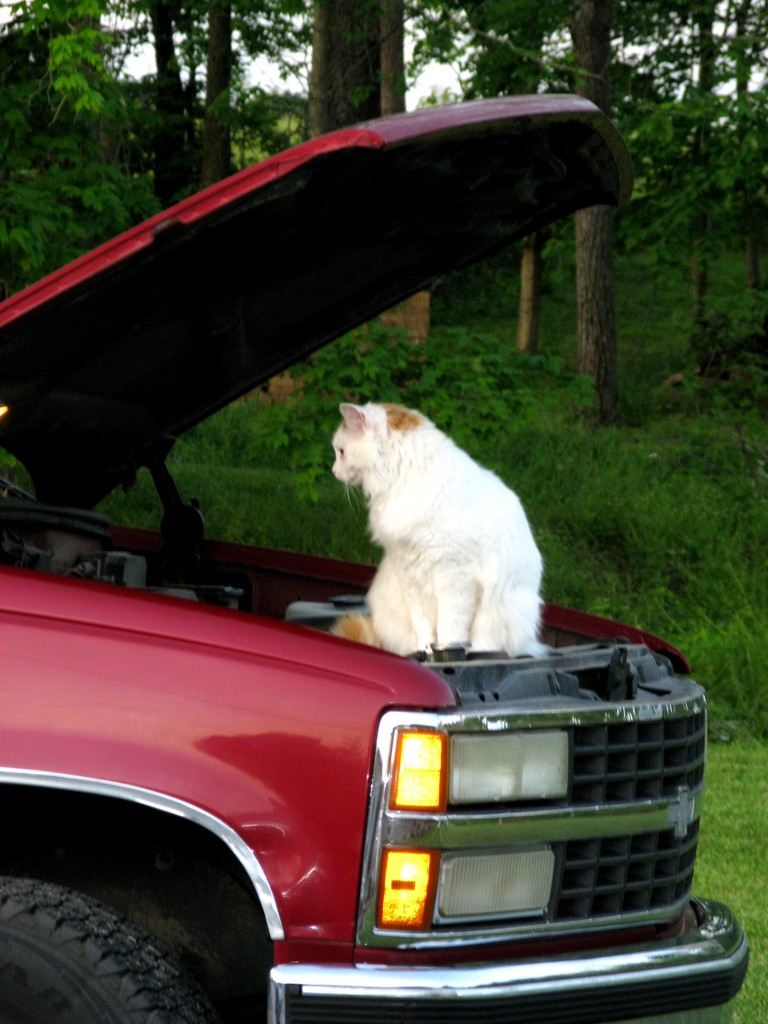Car: (0, 183, 768, 967)
